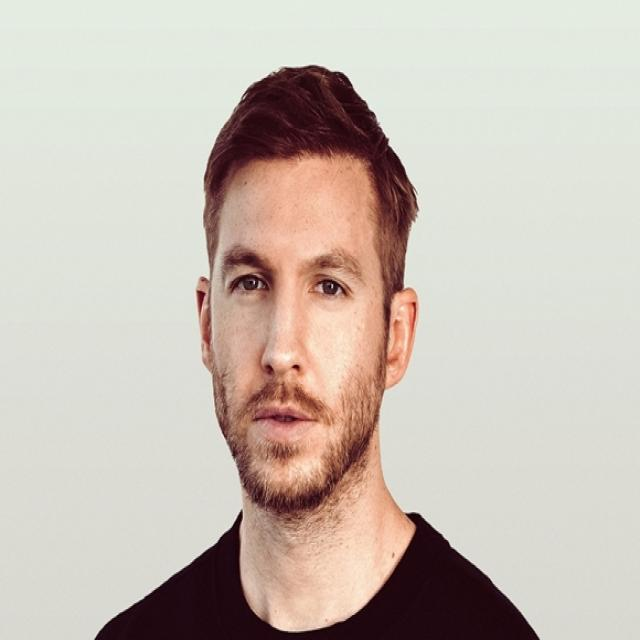human: (96, 60, 547, 640)
